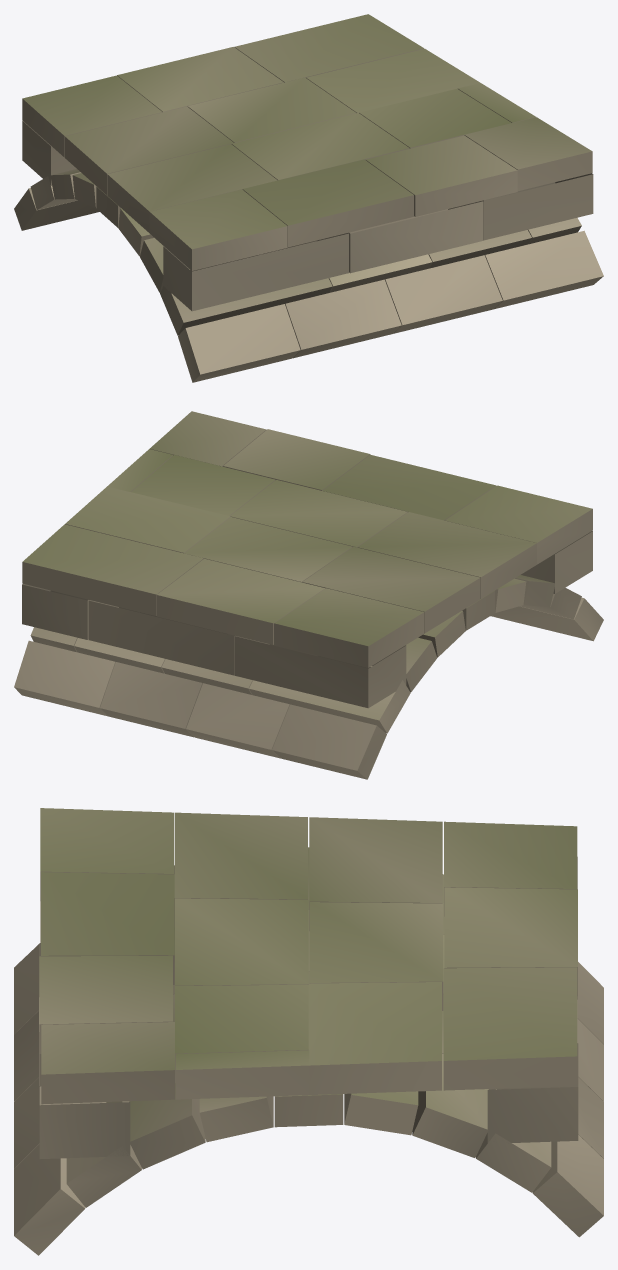
The model's file is arena_vault_a_mid.glb.
3 renders of one model, top to bottom at view 1: azimuth 30°, elevation 25°; view 2: azimuth 150°, elevation 25°; view 3: azimuth 270°, elevation 25°, orthographic. The views are drawn at different scales.
Visible parts, largest first — view 1: arena_vault_a_mid; view 2: arena_vault_a_mid; view 3: arena_vault_a_mid.
Part boxes in pixels (x1,y1,x2,y2): arena_vault_a_mid: [14, 14, 603, 382]; arena_vault_a_mid: [14, 411, 603, 779]; arena_vault_a_mid: [14, 808, 603, 1255].
Bounding box in the file's own units: 18.88 × 5.94 × 17.53.
